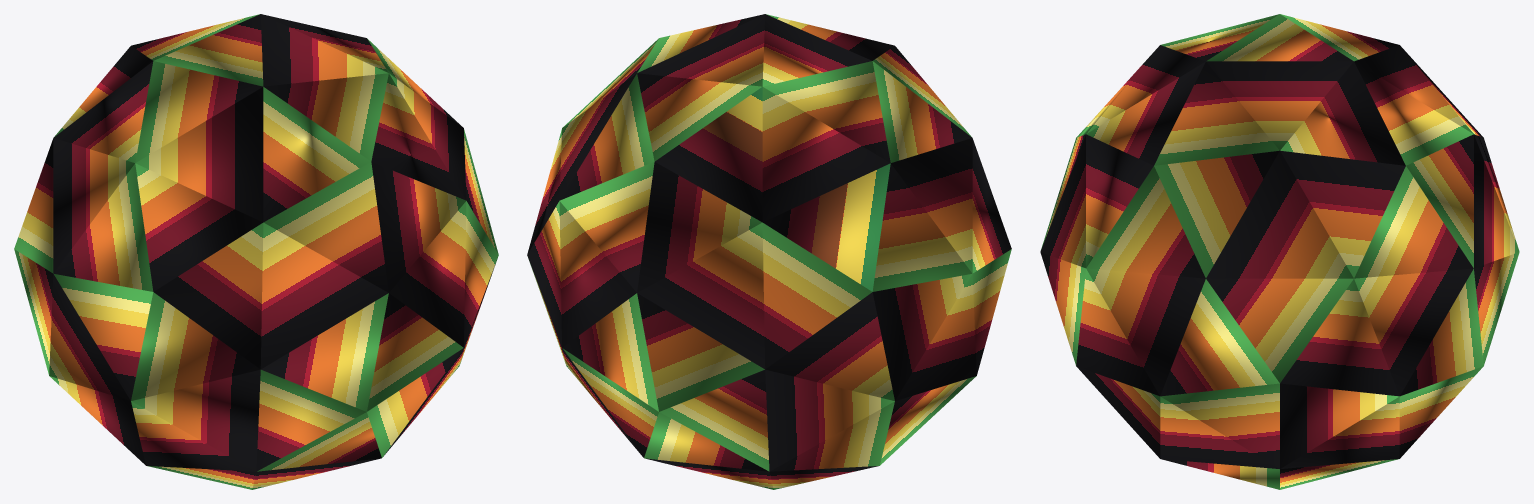
3 renders of one model, left to right at view 1: azimuth 30°, elevation 25°; view 2: azimuth 150°, elevation 25°; view 3: azimuth 270°, elevation 25°, orthographic.
Parts seen in each view (by area): view 1: ok; view 2: ok; view 3: ok.
Part boxes in pixels (x1=…): ok: x1=14, y1=14, x2=498, y2=489; ok: x1=527, y1=14, x2=1011, y2=489; ok: x1=1040, y1=14, x2=1519, y2=489.
Size of the model in its own units: 0.88 by 0.88 by 0.88.
Materials: 1 (1 with a texture image).
